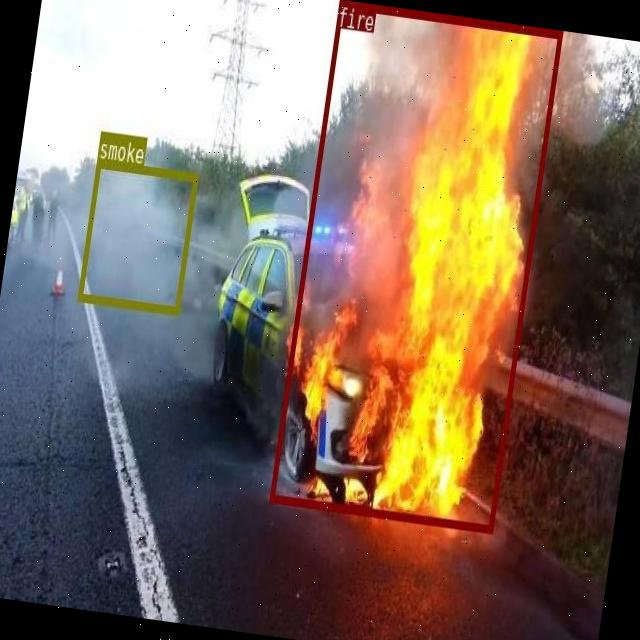fire: (270, 0, 562, 531)
smoke: (78, 158, 198, 314)
